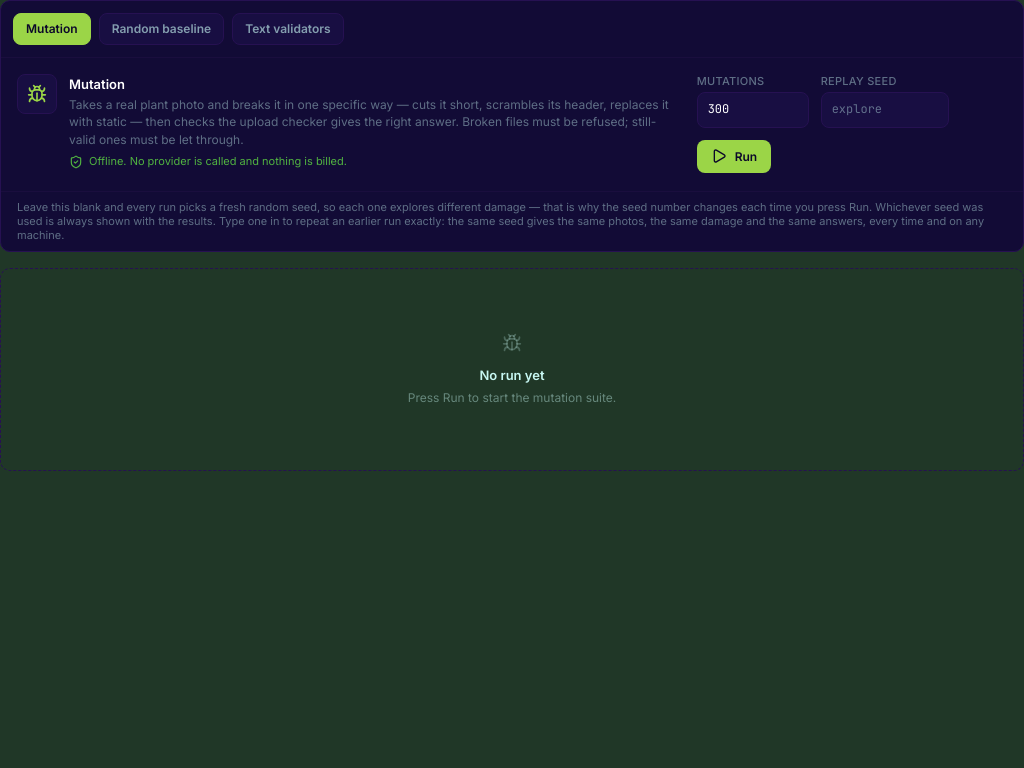
FuzzTests › always surfaces the rng seed so a run can be reproduced
Click the button "Run" at (734, 156), box left=697, top=140, right=771, bottom=173
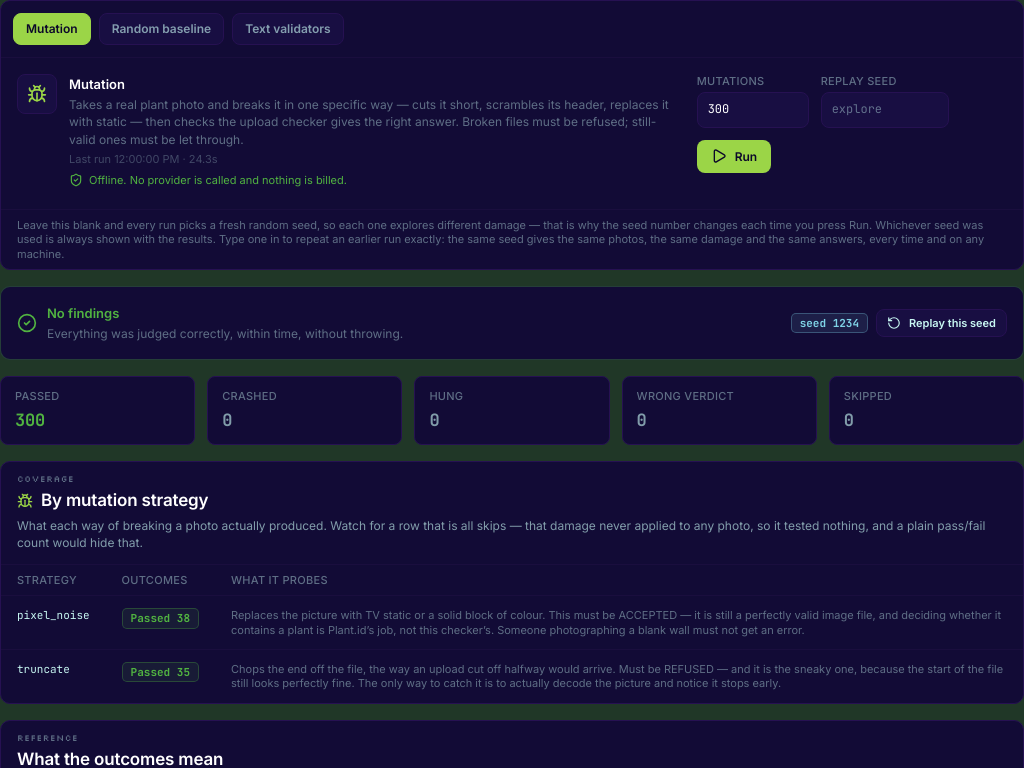
Expected: the text "seed 1234" is shown, left=791, top=313, right=868, bottom=333
